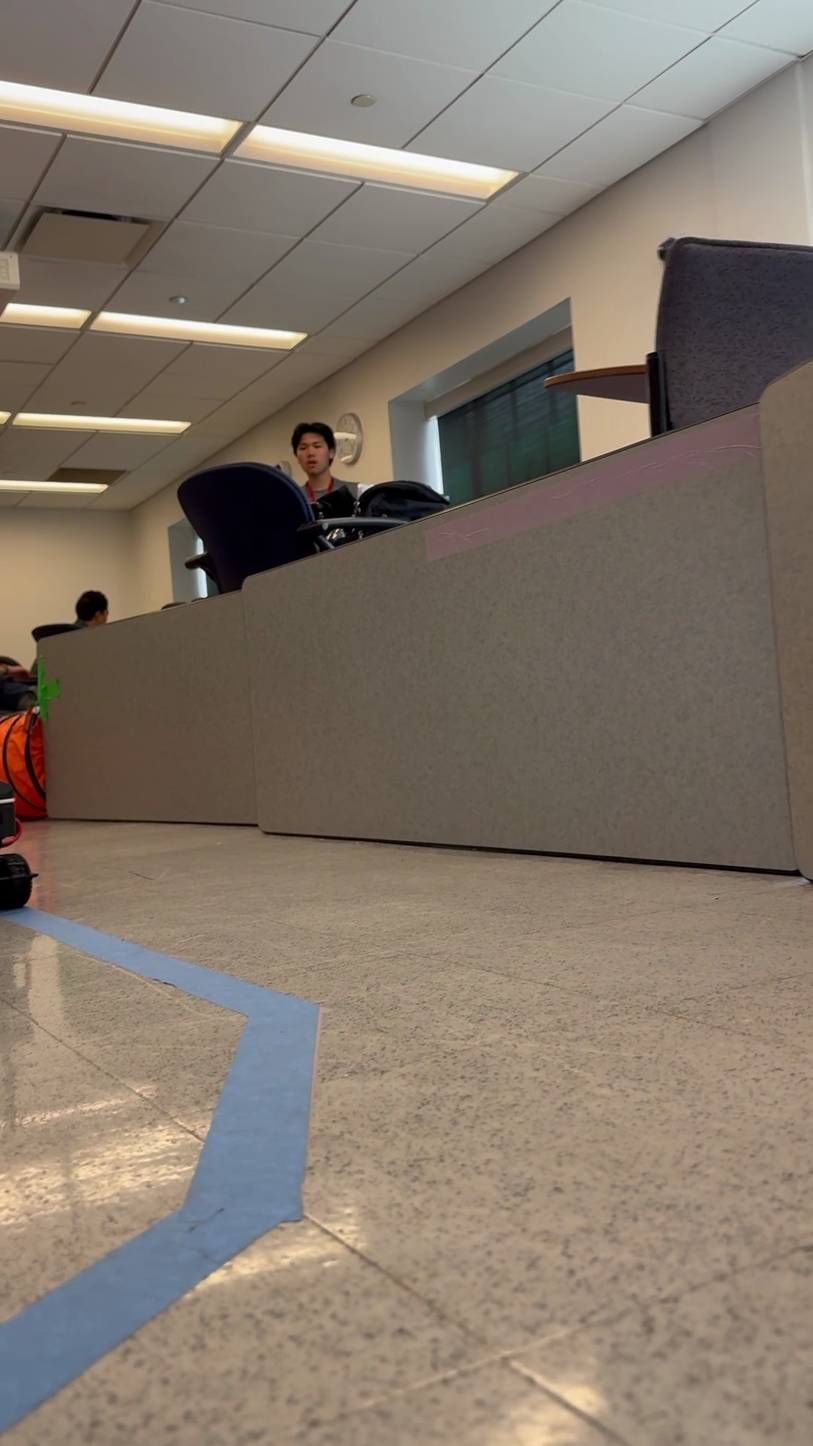racecar: (175, 465, 450, 604), (313, 472, 445, 531)
